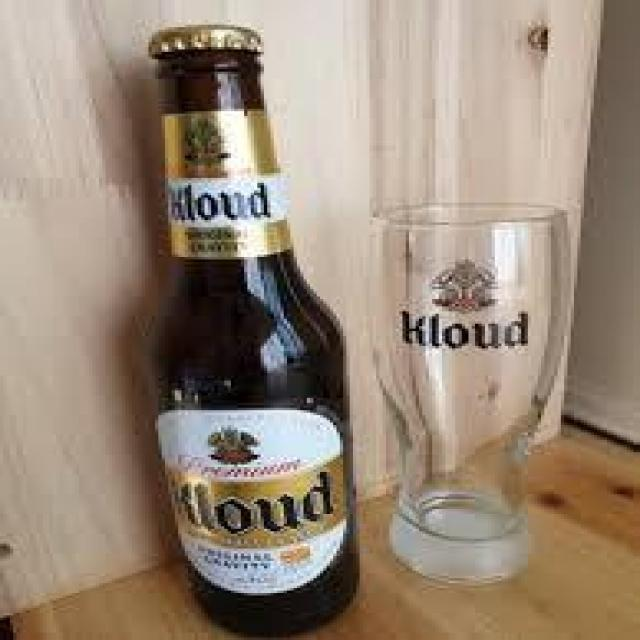beer-bottle: (100, 20, 374, 640)
